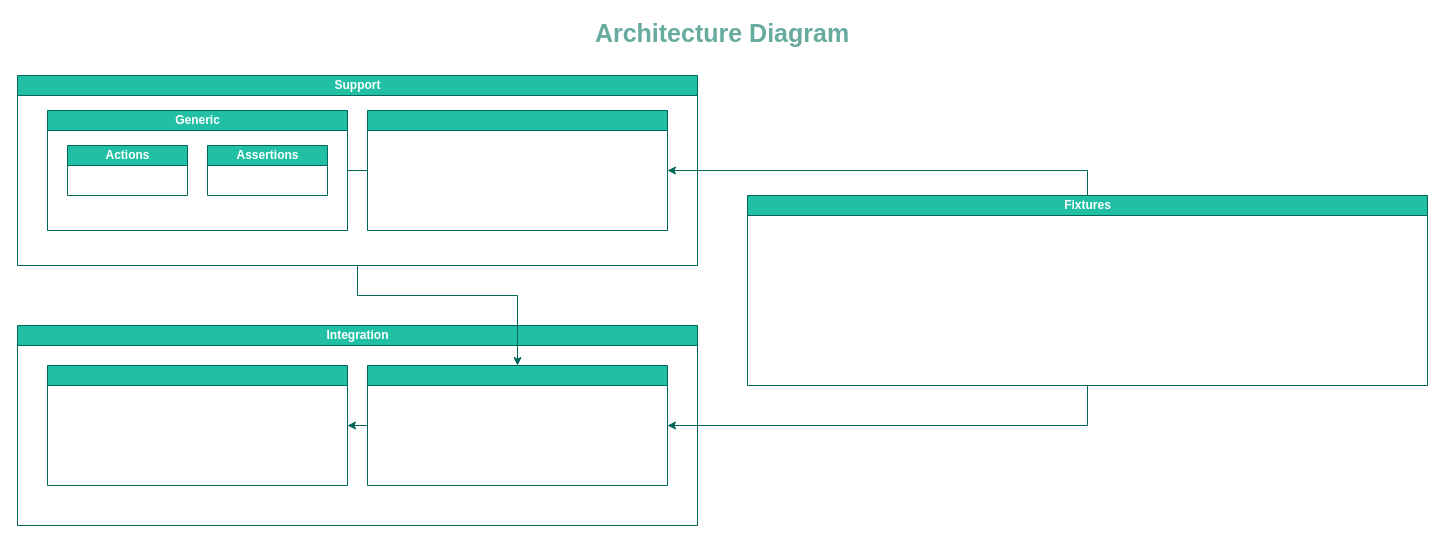
Some shapes in this 1445 by 543 pixel diagram are drawn without their labels. The centre of each missing label's shape, as x and y in pixels:
"Features" belongs at pixel 197 425.
"Page Objects" belongs at pixel 517 170.
"Steps Definitions" belongs at pixel 517 425.
